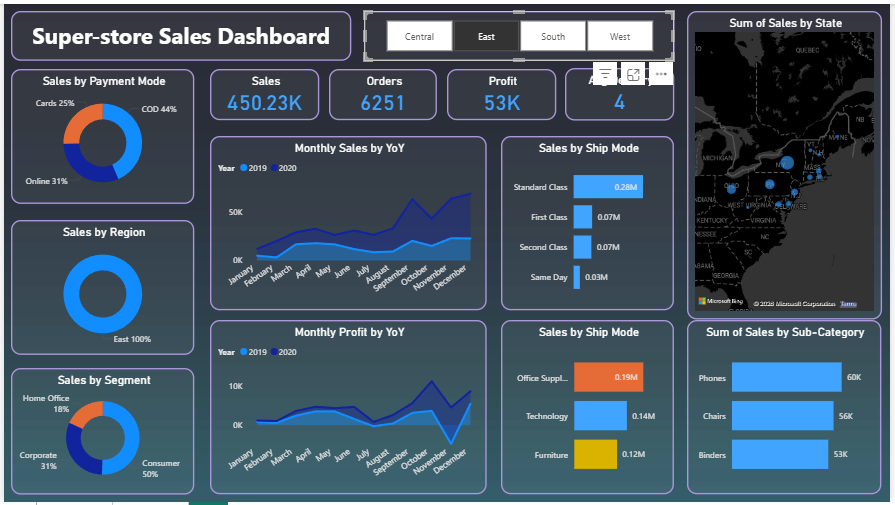

What the dashboard file says about the page in this screenshot:
{"tool":"powerbi","page":{"name":"Page 1","canvas":[1280,720],"ordinal":0},"visuals":[{"type":"textbox","box":[10.1,10.1,492.2,72.2],"z":0},{"type":"donutChart","title":"Sales by Payment Mode","fields":{"Category":["SuperStore_Sales_Dataset.Payment Mode"],"Y":["Sum(SuperStore_Sales_Dataset.Sales)"]},"box":[10.1,94.1,265.4,194.9],"z":1000},{"type":"donutChart","title":"Sales by Region","fields":{"Category":["SuperStore_Sales_Dataset.Region"],"Y":["Sum(SuperStore_Sales_Dataset.Sales)"]},"box":[10.1,312.4,265.4,194.9],"z":2000},{"type":"donutChart","title":"Sales by Segment","fields":{"Y":["Sum(SuperStore_Sales_Dataset.Sales)"],"Category":["SuperStore_Sales_Dataset.Segment"]},"box":[10.1,525.8,265.4,183.1],"z":3000},{"type":"slicer","fields":{"Values":["SuperStore_Sales_Dataset.Region"]},"box":[520.7,10.1,448.5,72.2],"z":4000},{"type":"card","title":"Sales","fields":{"Values":["Sum(SuperStore_Sales_Dataset.Sales)"]},"box":[297.3,94.1,157.9,73.9],"z":5000},{"type":"card","title":"Profit","fields":{"Values":["Sum(SuperStore_Sales_Dataset.Profit)"]},"box":[640,94.1,157.9,73.9],"z":6000},{"type":"card","title":"Orders","fields":{"Values":["Sum(SuperStore_Sales_Dataset.Quantity)"]},"box":[470.3,94.1,156.2,73.9],"z":7000},{"type":"card","title":"Avg Delivery","fields":{"Values":["Avg(SuperStore_Sales_Dataset.AvgDelivery)"]},"box":[811.3,92.4,157.9,75.6],"z":8000},{"type":"stackedAreaChart","title":"Monthly Sales by YoY","fields":{"Category":["SuperStore_Sales_Dataset.Order Date.Variation.Date Hierarchy.Month"],"Y":["Sum(SuperStore_Sales_Dataset.Sales)"],"Series":["SuperStore_Sales_Dataset.Order Date.Variation.Date Hierarchy.Year"]},"box":[297.3,191.5,399.8,252],"z":9000},{"type":"stackedAreaChart","title":"Monthly Profit by YoY","fields":{"Category":["SuperStore_Sales_Dataset.Order Date.Variation.Date Hierarchy.Month"],"Y":["Sum(SuperStore_Sales_Dataset.Profit)"],"Series":["SuperStore_Sales_Dataset.Order Date.Variation.Date Hierarchy.Year"]},"box":[297.3,456.9,399.8,252],"z":10000},{"type":"clusteredBarChart","title":"Sales by Ship Mode","fields":{"Y":["Sum(SuperStore_Sales_Dataset.Sales)"],"Category":["SuperStore_Sales_Dataset.Ship Mode"]},"box":[719,191.5,250.3,252],"z":11000},{"type":"clusteredBarChart","title":"Sales by Ship Mode","fields":{"Y":["Sum(SuperStore_Sales_Dataset.Sales)"],"Category":["SuperStore_Sales_Dataset.Category"]},"box":[719,456.9,250.3,252],"z":12000},{"type":"clusteredBarChart","fields":{"Y":["Sum(SuperStore_Sales_Dataset.Sales)"],"Category":["SuperStore_Sales_Dataset.Sub-Category"]},"box":[987.7,456.9,280.5,252],"z":13000},{"type":"map","fields":{"Category":["SuperStore_Sales_Dataset.State"],"Size":["Sum(SuperStore_Sales_Dataset.Sales)"]},"box":[987.5,10.1,281.9,446],"z":14000}]}

Visuals, with their boxes in screenshot pixels (x1, y1, x2, y2), scaled from the page's 1280x720 canvas onto the 895x505 screenshot:
textbox: {"x1": 7, "y1": 7, "x2": 351, "y2": 58}
"Sales by Payment Mode" donutChart: {"x1": 7, "y1": 66, "x2": 193, "y2": 203}
"Sales by Region" donutChart: {"x1": 7, "y1": 219, "x2": 193, "y2": 356}
"Sales by Segment" donutChart: {"x1": 7, "y1": 369, "x2": 193, "y2": 497}
slicer - SuperStore_Sales_Dataset.Region: {"x1": 364, "y1": 7, "x2": 678, "y2": 58}
"Sales" card: {"x1": 208, "y1": 66, "x2": 318, "y2": 118}
"Profit" card: {"x1": 448, "y1": 66, "x2": 558, "y2": 118}
"Orders" card: {"x1": 329, "y1": 66, "x2": 438, "y2": 118}
"Avg Delivery" card: {"x1": 567, "y1": 65, "x2": 678, "y2": 118}
"Monthly Sales by YoY" stackedAreaChart: {"x1": 208, "y1": 134, "x2": 487, "y2": 311}
"Monthly Profit by YoY" stackedAreaChart: {"x1": 208, "y1": 320, "x2": 487, "y2": 497}
"Sales by Ship Mode" clusteredBarChart: {"x1": 503, "y1": 134, "x2": 678, "y2": 311}
"Sales by Ship Mode" clusteredBarChart: {"x1": 503, "y1": 320, "x2": 678, "y2": 497}
clusteredBarChart - Sum(SuperStore_Sales_Dataset.Sales) x SuperStore_Sales_Dataset.Sub-Category: {"x1": 691, "y1": 320, "x2": 887, "y2": 497}
map - SuperStore_Sales_Dataset.State x Sum(SuperStore_Sales_Dataset.Sales): {"x1": 690, "y1": 7, "x2": 888, "y2": 320}
